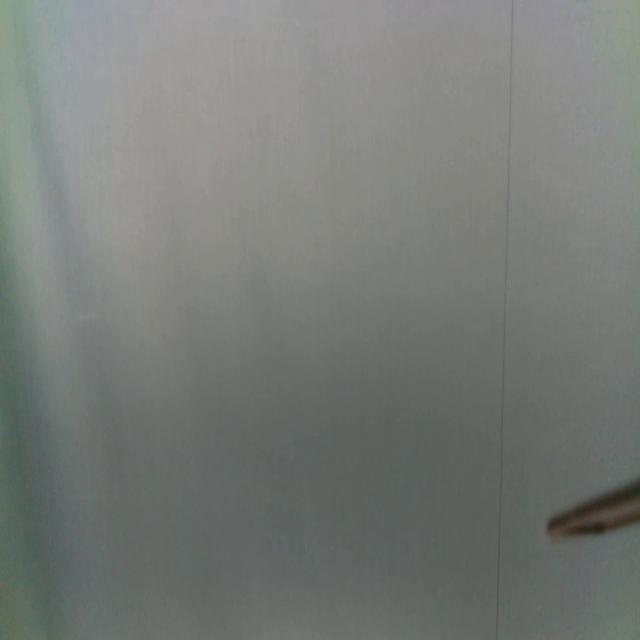crease: (493, 1, 515, 640)
